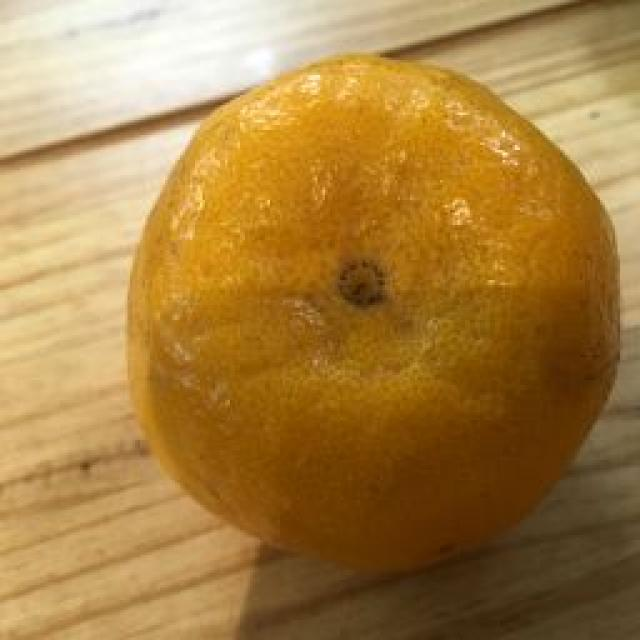Wet: (112, 48, 628, 568)
